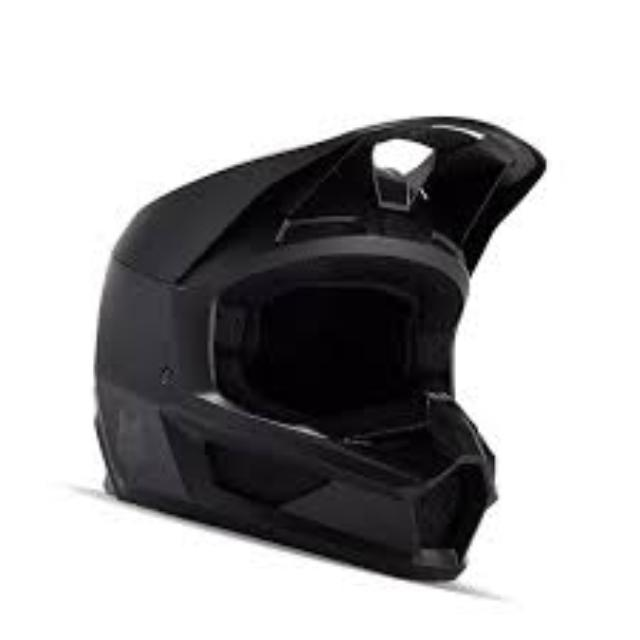motorcycle-helmets: (94, 117, 543, 577)
